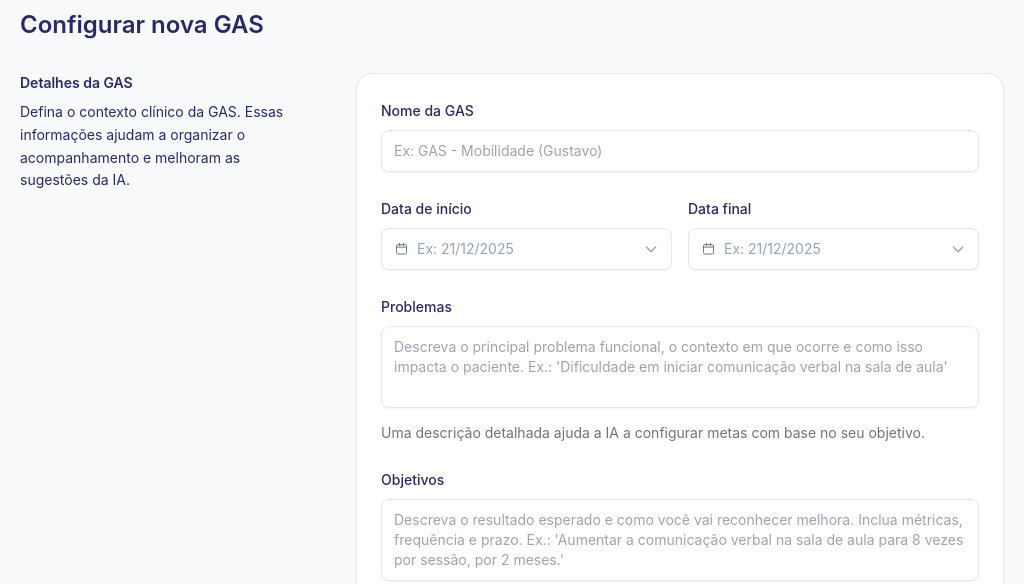
Test: App - Integration Tests › 1. Botão de IA - Sugestão de Meta › deve ter animação e sugerir nome para a primeira meta
This screenshot has width=1024, height=584.
// Preenche campos de contexto (Problemas e Objetivos)
Type "Dificuldade de comunicação verbal" into the text box with placeholder "Descreva o principal problema". click: x=680, y=367
box: [381, 326, 979, 408]
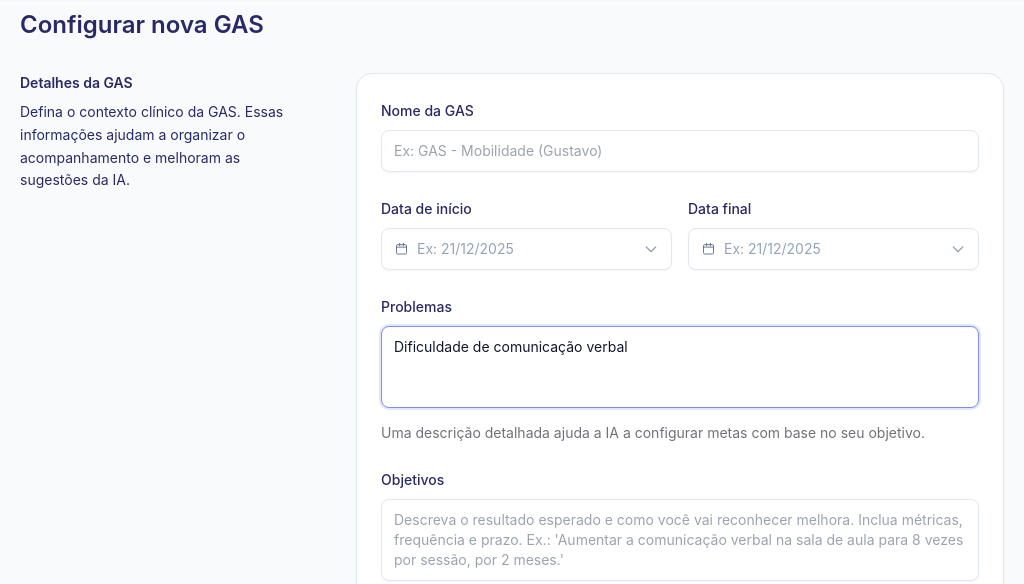
Type "Melhorar comunicação em sala de aula" into the text box with placeholder "Descreva o resultado esperado". click: x=680, y=540
box: [381, 499, 979, 581]
(page scrolled)
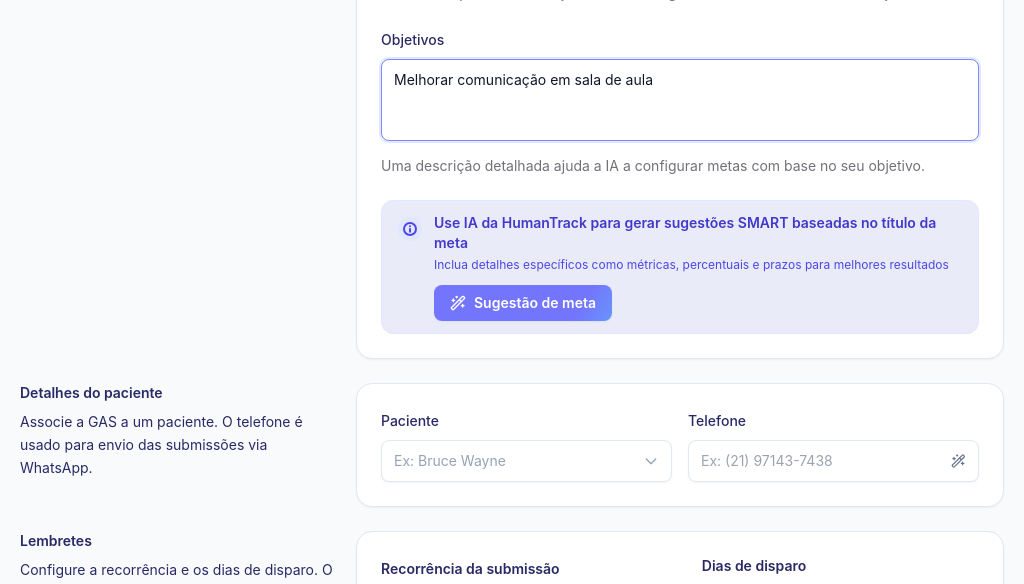
// Clica no botão de sugestão de meta
Click the button "Sugestão de meta". click: x=523, y=303
box: [434, 285, 612, 321]
(page scrolled)
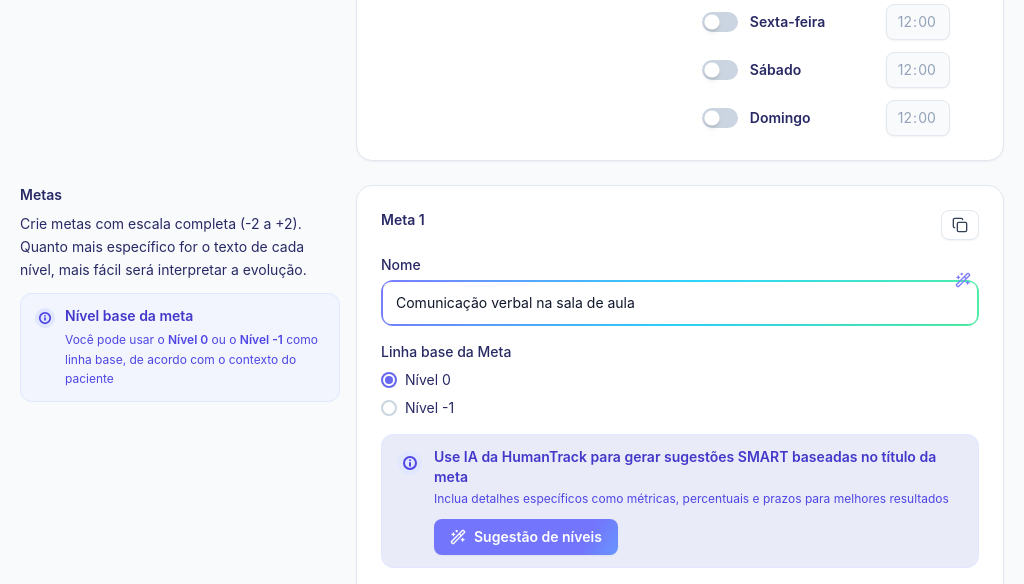
Check: the field with placeholder "Ex: Comunicação verbal na sala de aula" holds "Comunicação verbal na sala de aula", box [383, 282, 977, 324]
